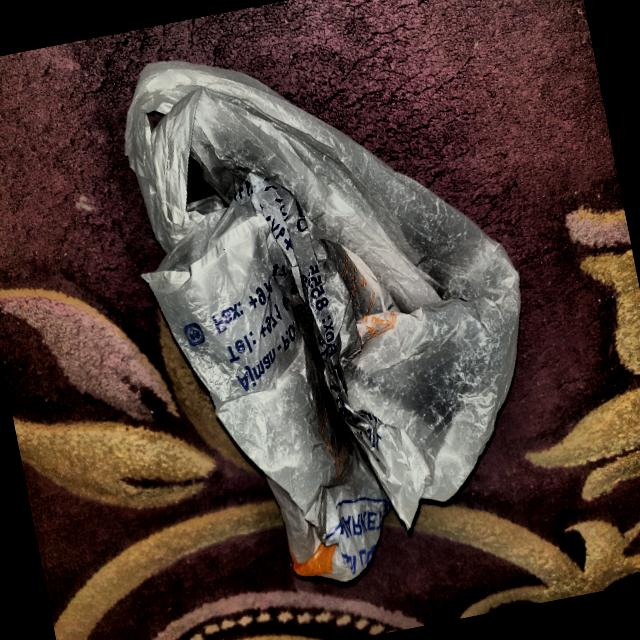plastic bag: (87, 0, 584, 626)
